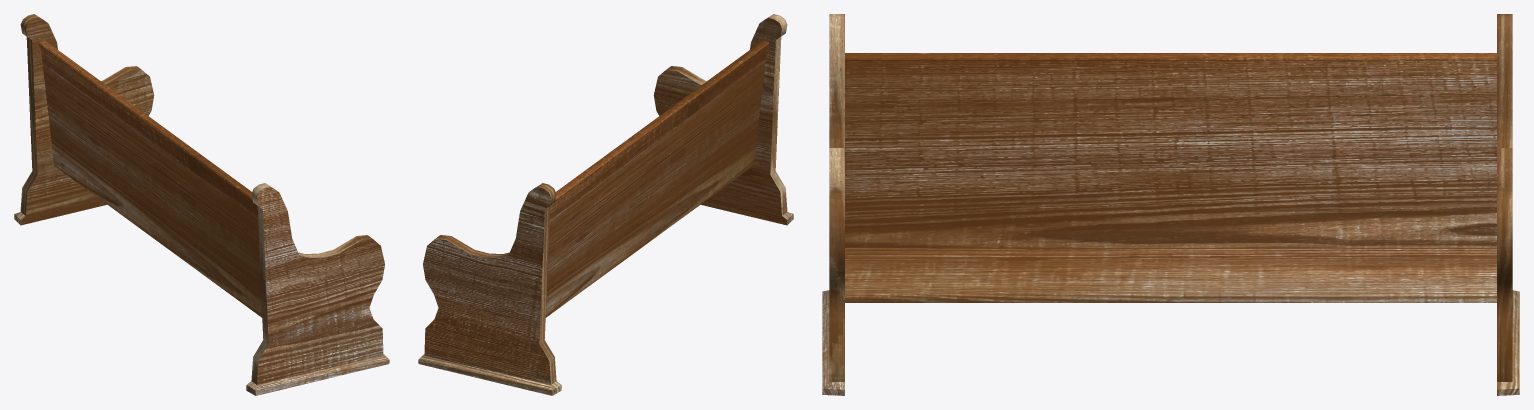
The model's file is Pew.fbx.
3 renders of one model, left to right at view 1: azimuth 30°, elevation 25°; view 2: azimuth 150°, elevation 25°; view 3: azimuth 270°, elevation 25°, orthographic. The views are drawn at different scales.
Parts seen in each view (by area): view 1: Line002; view 2: Line002; view 3: Line002.
Part boxes in pixels (x1=…): Line002: x1=14, y1=14, x2=389, y2=395; Line002: x1=418, y1=14, x2=793, y2=395; Line002: x1=822, y1=14, x2=1519, y2=395.
Bounding box in the file's own units: 3357 × 4771 × 10244.
